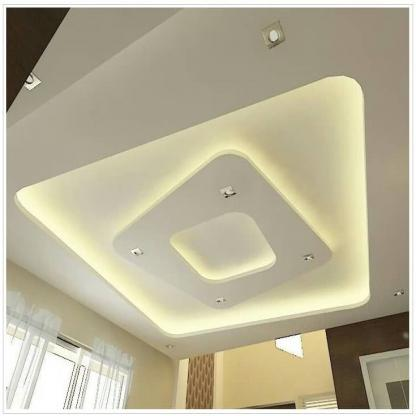Gypsum Board: (0, 36, 399, 380)
